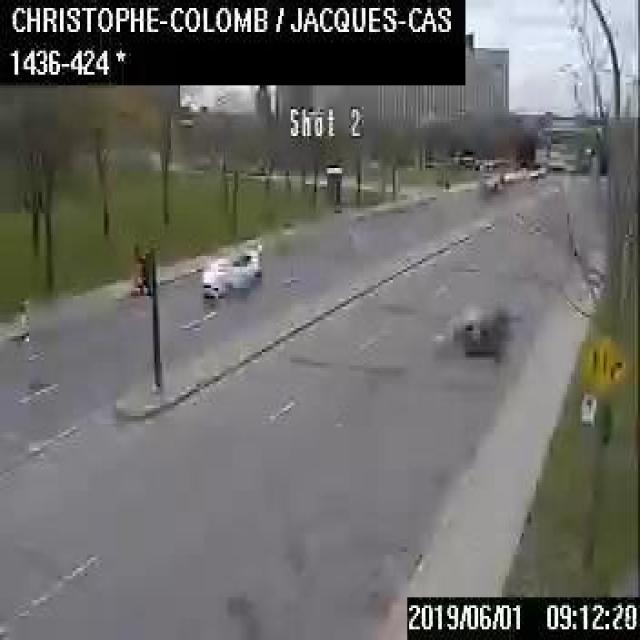vehicle: (200, 248, 260, 296), (458, 298, 504, 354), (474, 171, 506, 192)
